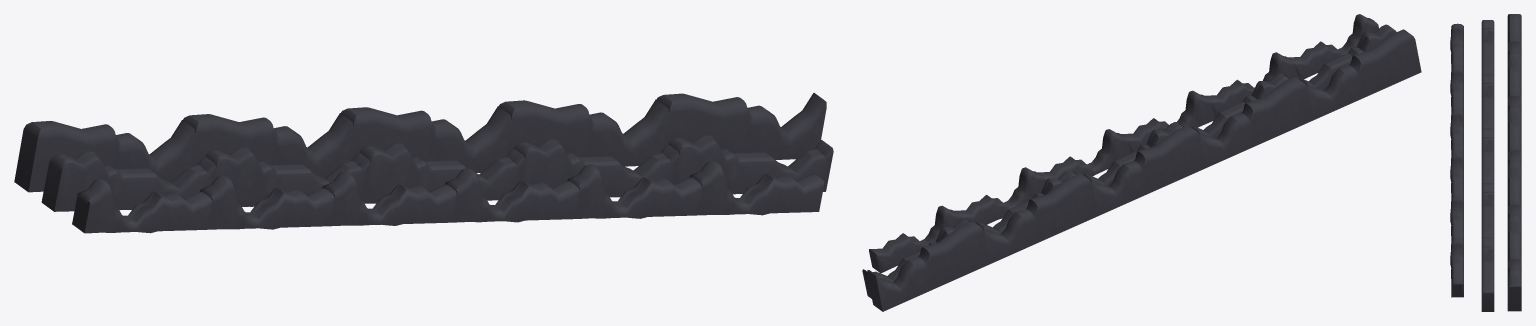
The model's file is rok.fbx.
The picture shows the model from 3 angles, left to right: view 1: azimuth 30°, elevation 25°; view 2: azimuth 210°, elevation 25°; view 3: azimuth 270°, elevation 25°; orthographic projection. The views are drawn at different scales.
Parts seen in each view (by area): view 1: Cube.010, Cube.008, Cube.009; view 2: Cube.010, Cube.008, Cube.009; view 3: Cube.010, Cube.009, Cube.008.
Part boxes in pixels (<box>): Cube.010: <box>14,93,826,192</box>; Cube.008: <box>72,161,823,233</box>; Cube.009: <box>41,135,833,211</box>; Cube.010: <box>867,29,1421,311</box>; Cube.008: <box>869,14,1378,273</box>; Cube.009: <box>862,24,1396,298</box>; Cube.010: <box>1507,14,1521,311</box>; Cube.009: <box>1481,20,1494,311</box>; Cube.008: <box>1450,23,1463,297</box>.
Bounding box in the file's own units: 3487 × 948 × 540.
